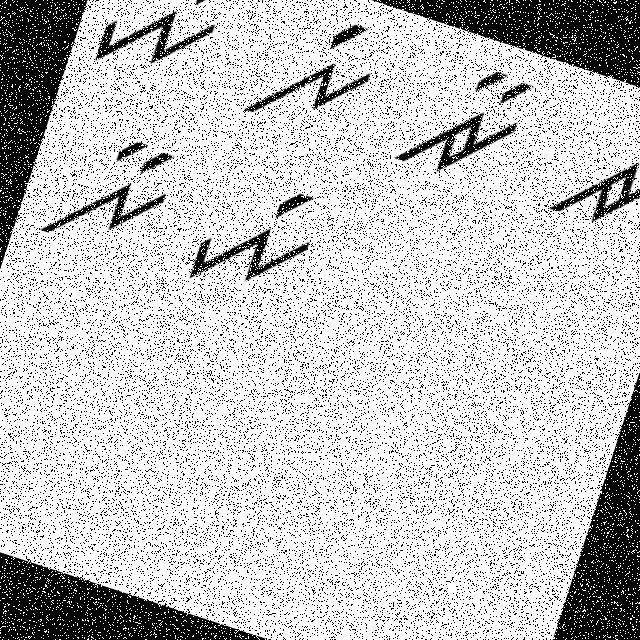lan: (25, 112, 192, 276)
lang: (233, 0, 396, 155)
ran: (388, 41, 548, 206)
rang: (538, 86, 639, 257)
yan: (83, 0, 243, 102)
yang: (174, 153, 332, 320)
